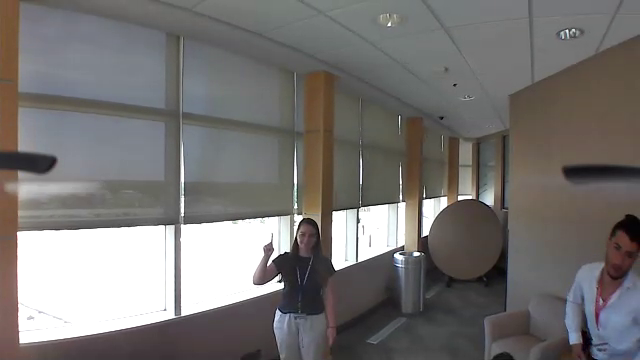up: (260, 229, 277, 257)
